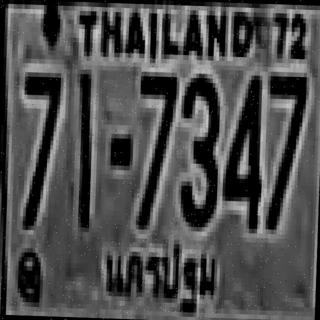N01: (74, 69, 92, 227)
N03: (177, 73, 218, 223)
N04: (222, 70, 262, 229)
N07: (263, 74, 307, 228), (18, 67, 59, 226), (134, 71, 176, 226), (20, 70, 60, 174)
P28: (94, 239, 224, 320)
